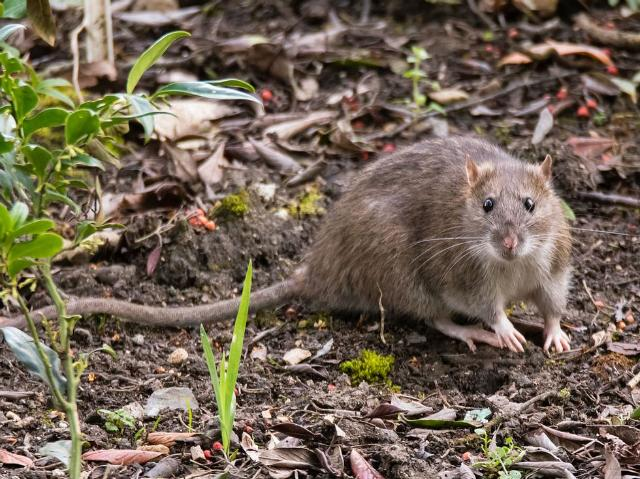rat: (228, 131, 580, 361)
